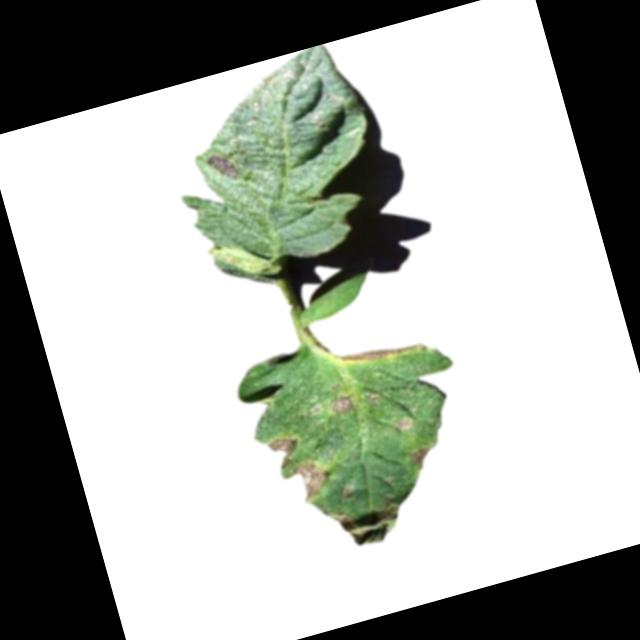Early_blight: (332, 495, 409, 553), (335, 332, 419, 370), (288, 455, 336, 504), (264, 431, 302, 471), (204, 148, 240, 185), (410, 443, 435, 471), (330, 391, 356, 414)
